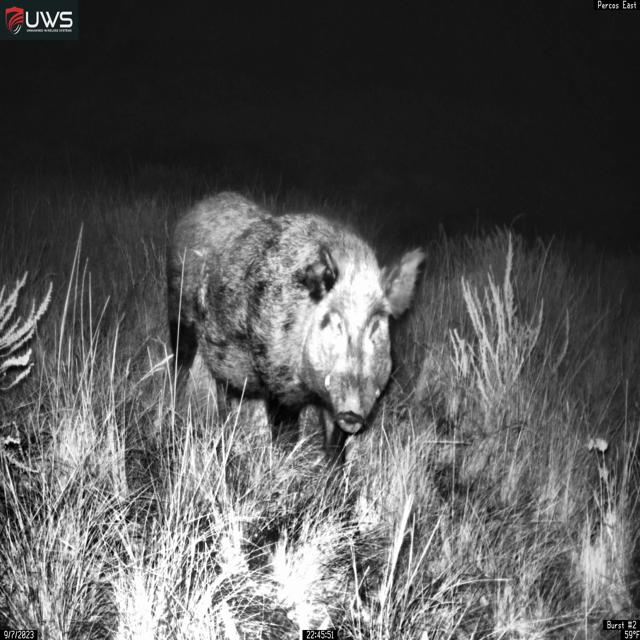pig: (165, 190, 427, 480)
